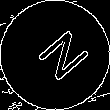N_SW: (23, 23, 87, 87)
